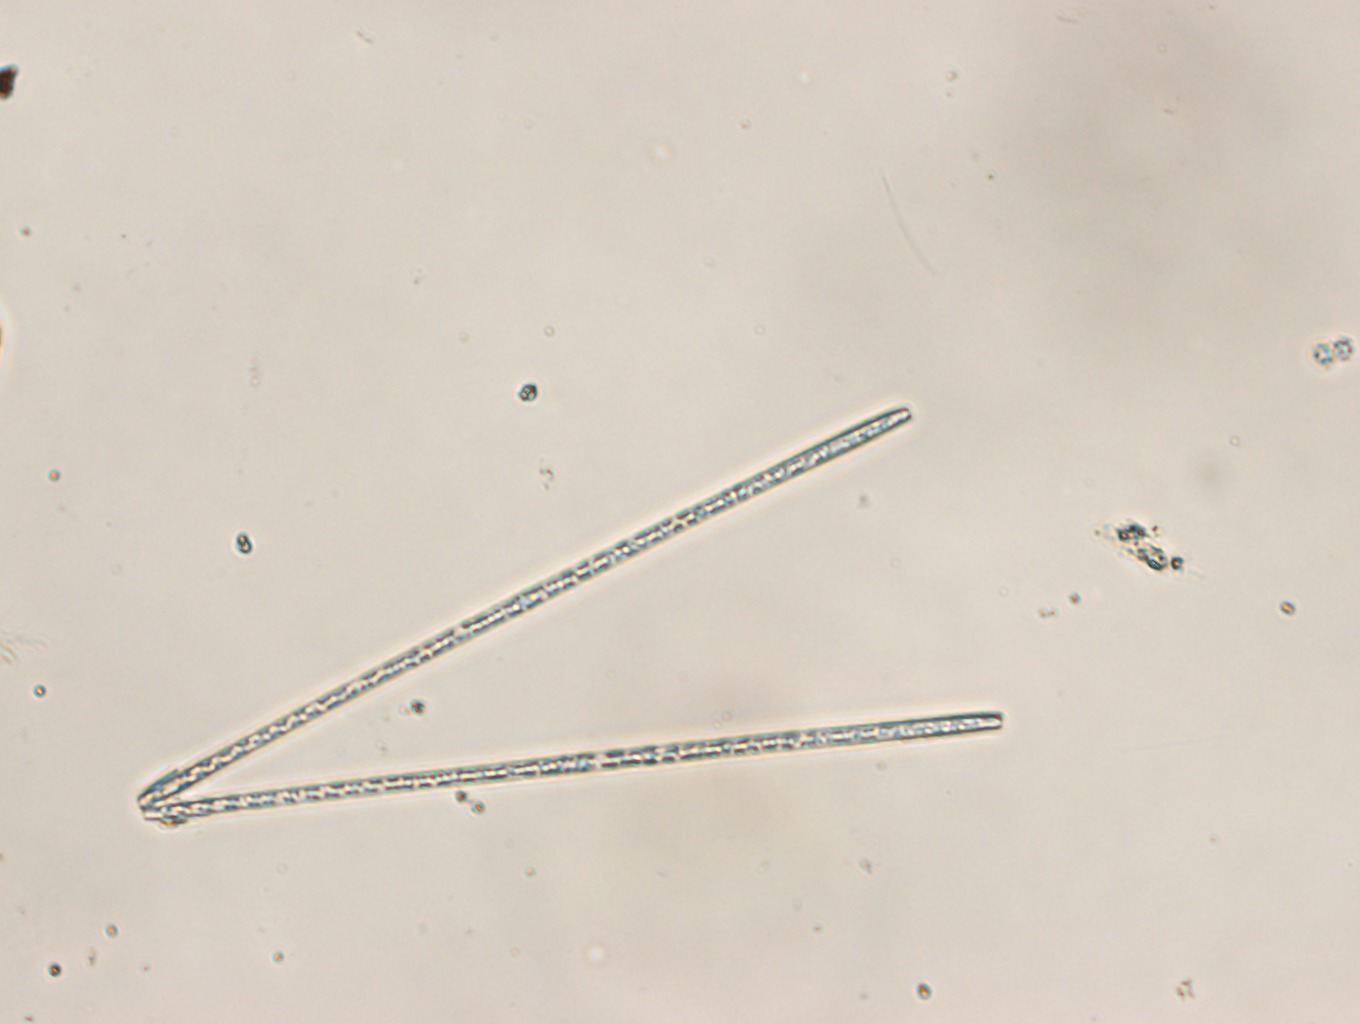thalassionema frauenfeldii: (135, 402, 1003, 825)
